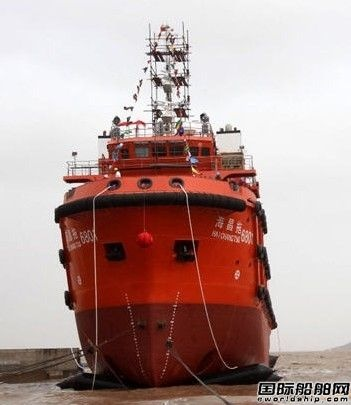Cargoship: (39, 58, 279, 393)
